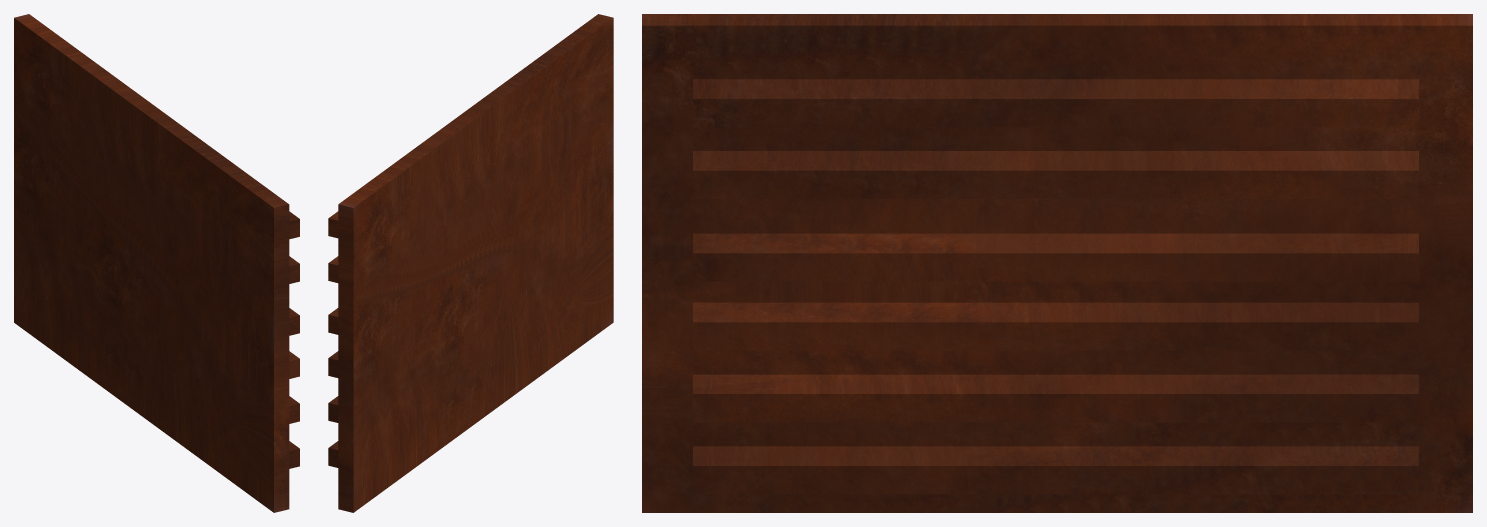
File: vent with texture.fbx
3 views of the same model, side by side, from view 1: azimuth 30°, elevation 25°; view 2: azimuth 150°, elevation 25°; view 3: azimuth 270°, elevation 25° (orthographic). The views are drawn at different scales.
Parts seen in each view (by area): view 1: vent; view 2: vent; view 3: vent.
Part boxes in pixels (box(x1,y1,x2,y2)): vent: box(14, 14, 299, 512); vent: box(328, 14, 613, 512); vent: box(642, 14, 1472, 512).
Bounding box in the file's own units: 0.8345 × 5.81 × 8.97.
